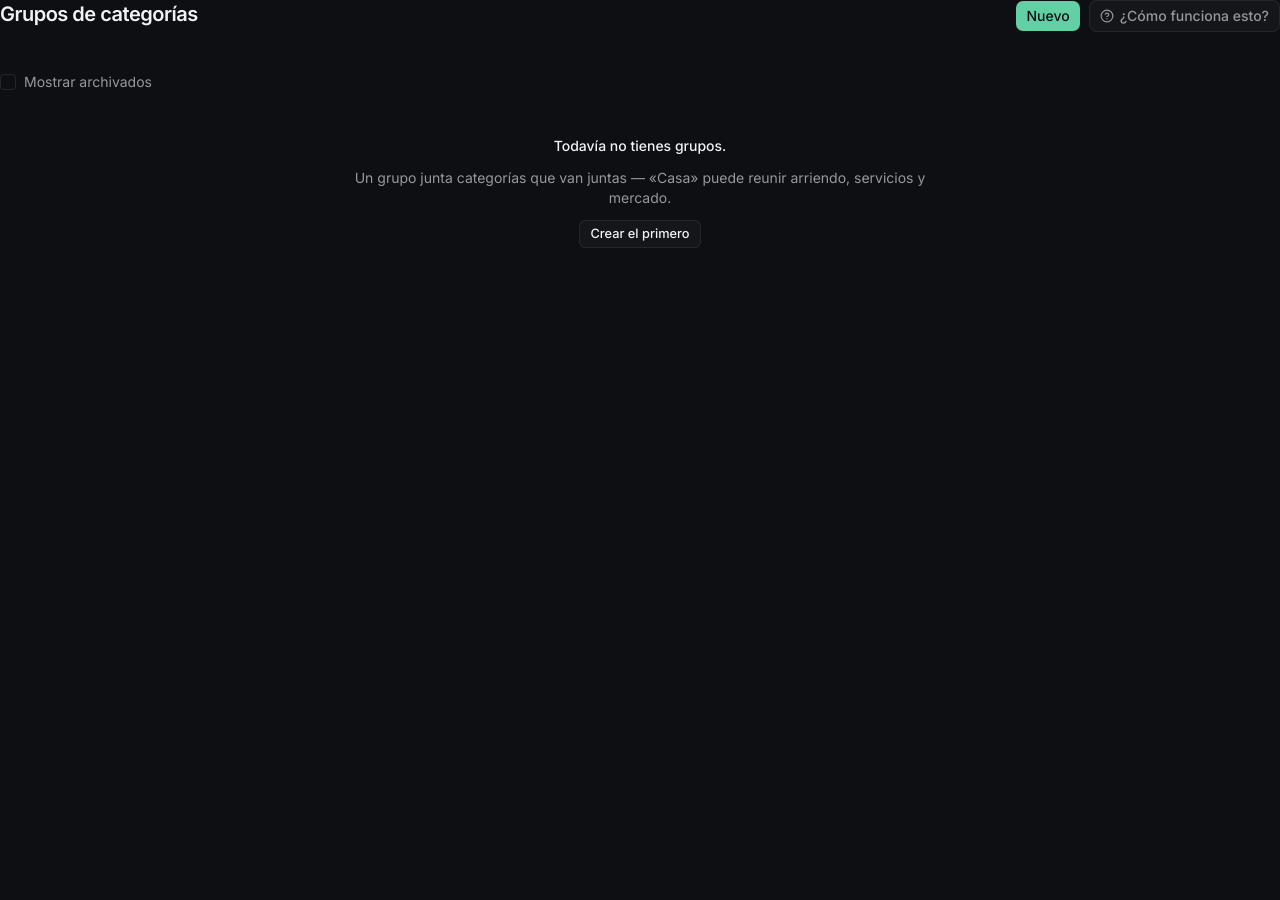
Test: AC-10 — an empty screen teaches and offers the way in › An empty Grupos screen teaches and offers the way in
The width and height of the screenshot is (1280, 900).
Check: the text "Un grupo junta categorías que van juntas" is shown, box [355,169,925,206]
Click the button "Crear el primero" at (640, 234), box [580,220,700,248]
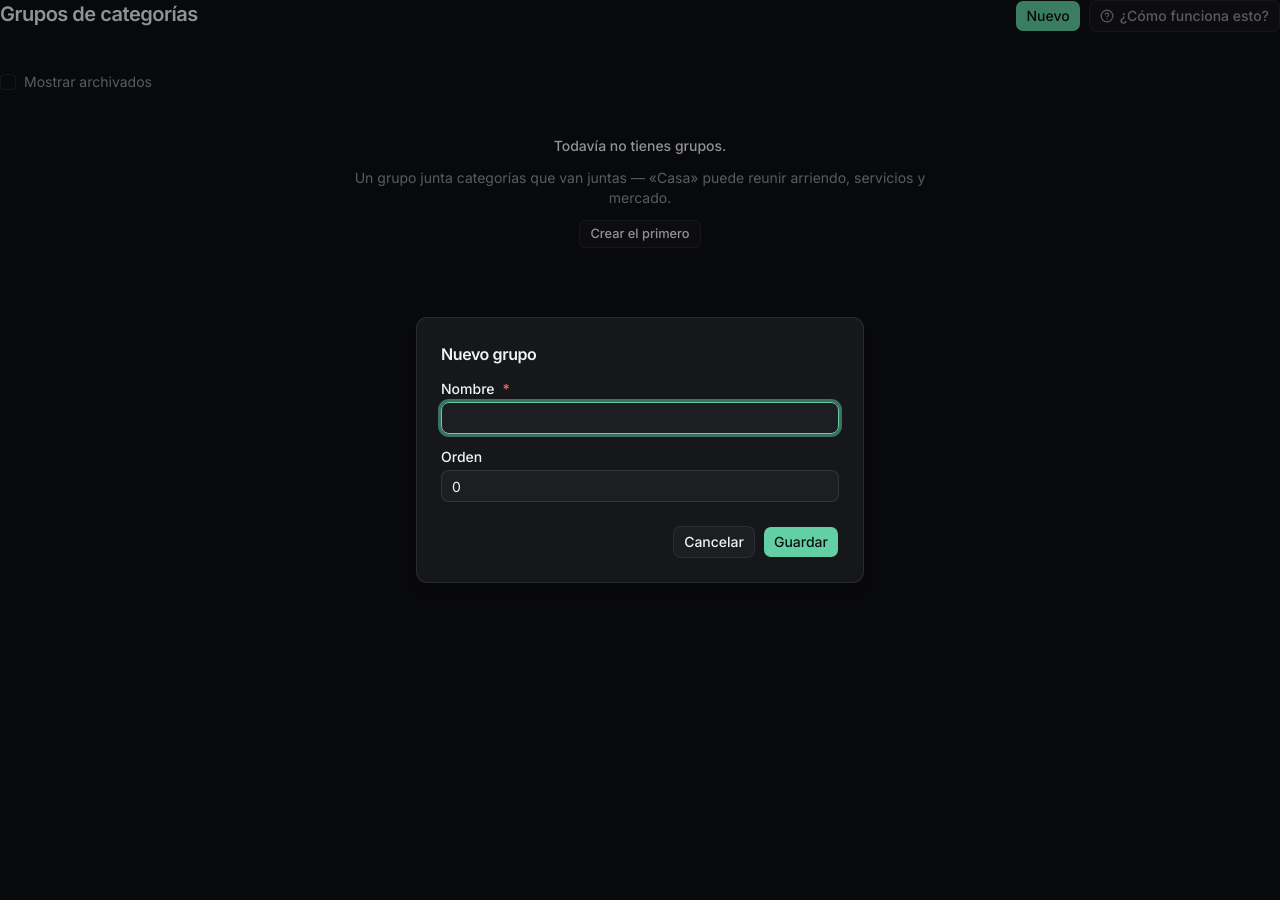
Check: the heading "Nuevo grupo" is shown, box [441,344,536,364]
